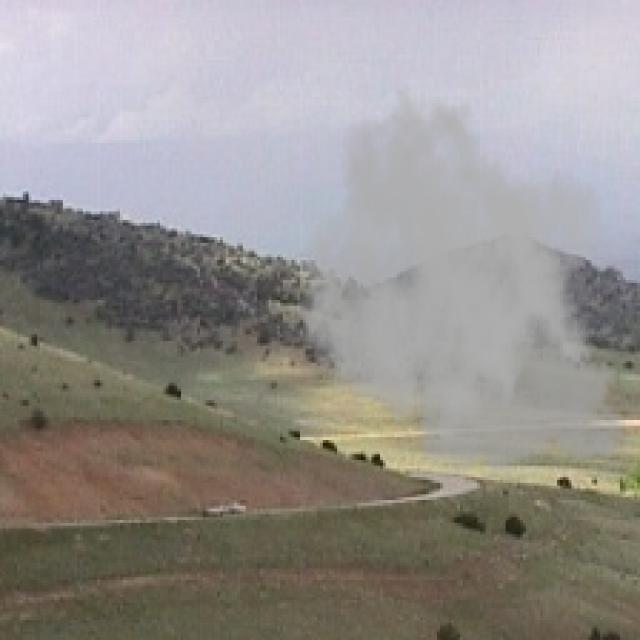Smoke: (297, 82, 637, 488)
